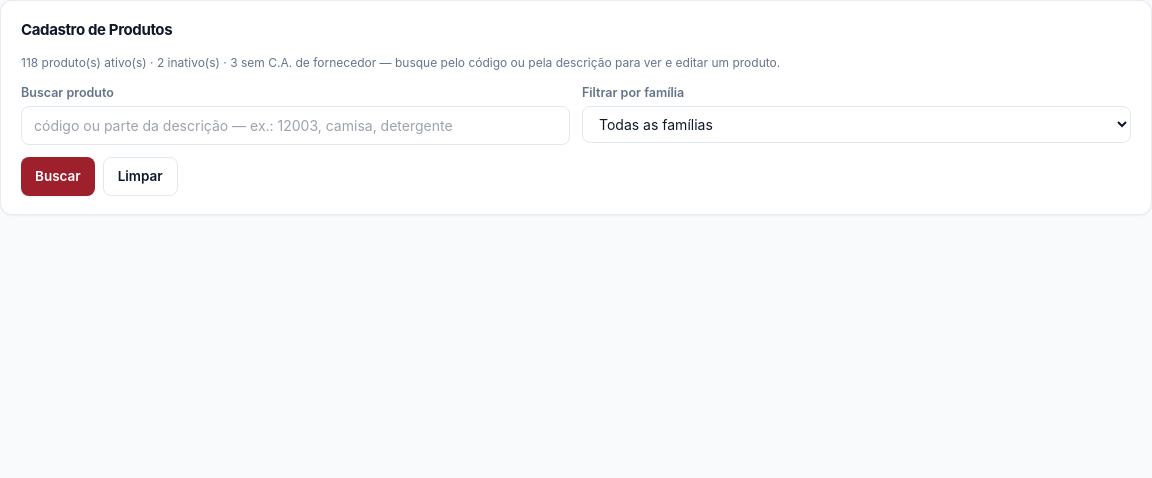
Scenario: <Produtos /> › quem não mantém o catálogo busca, mas não cadastra nem edita
The image size is (1152, 478).
In the field labelled "Buscar produto": (296,126) [21,106,570,145], type "luva"
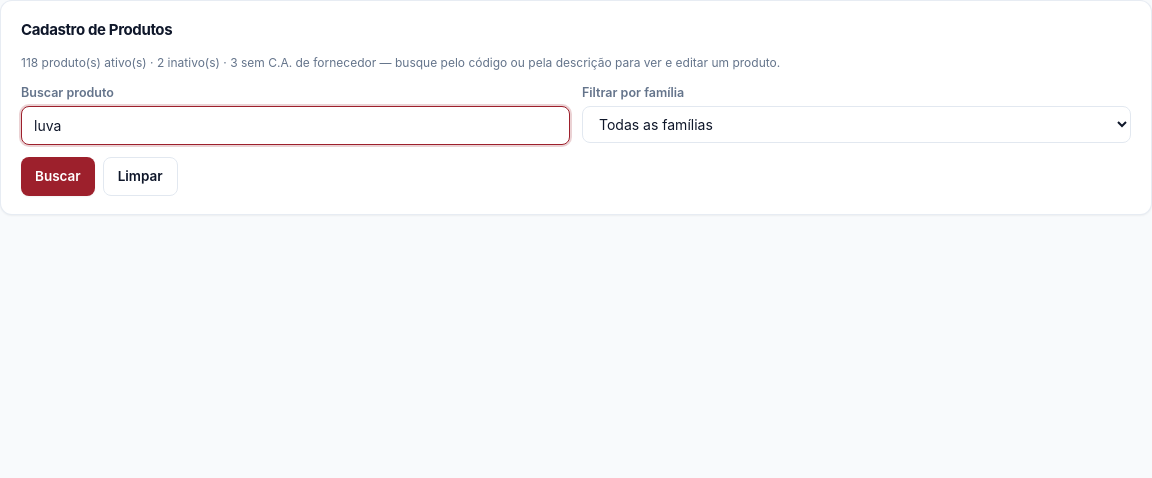
Click the button "Buscar": (58,176) [21,157,95,196]
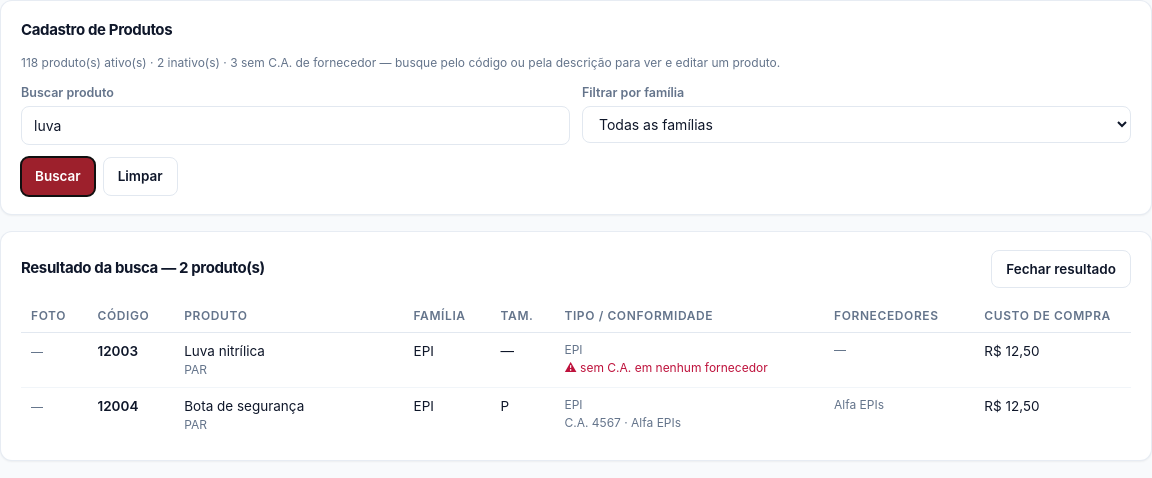
expect the table with test id "tabela-produtos" is shown: met, box [21,300,1131,442]
